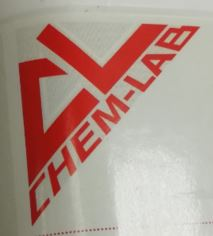ChemLab: (16, 23, 202, 228)
